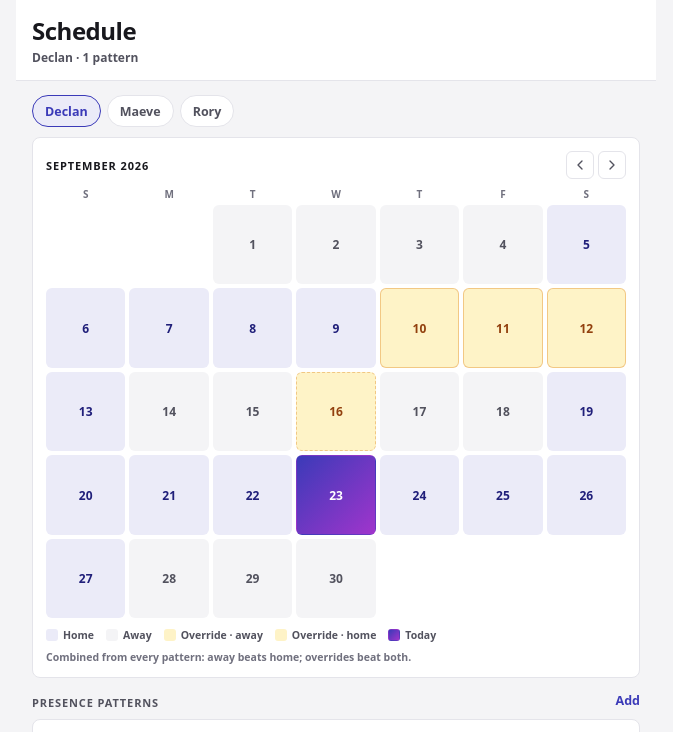
ScheduleTab › navigates months with the chevrons
Click the button named "Next month" at x=612, y=165, box [598,151,626,179]
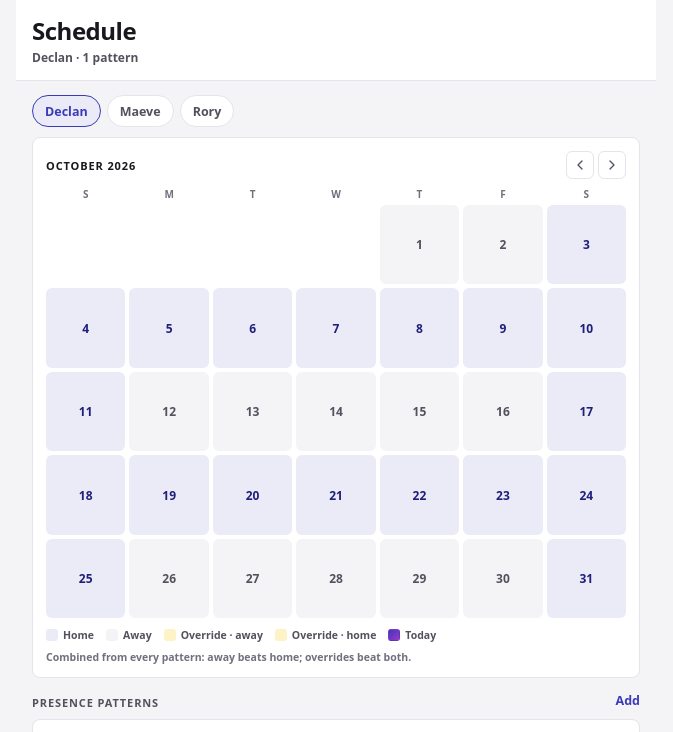
Result: the text with test id "month-label" reads "October 2026" at [46,158,136,172]
Click the button named "Previous month" at x=580, y=165, box [566,151,594,179]
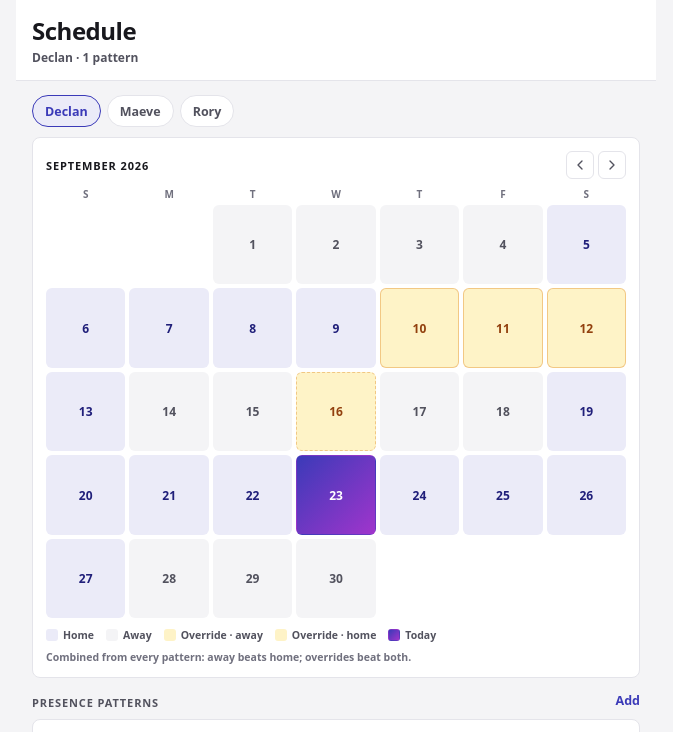
Result: the text with test id "month-label" reads "September 2026" at [46,158,149,172]
